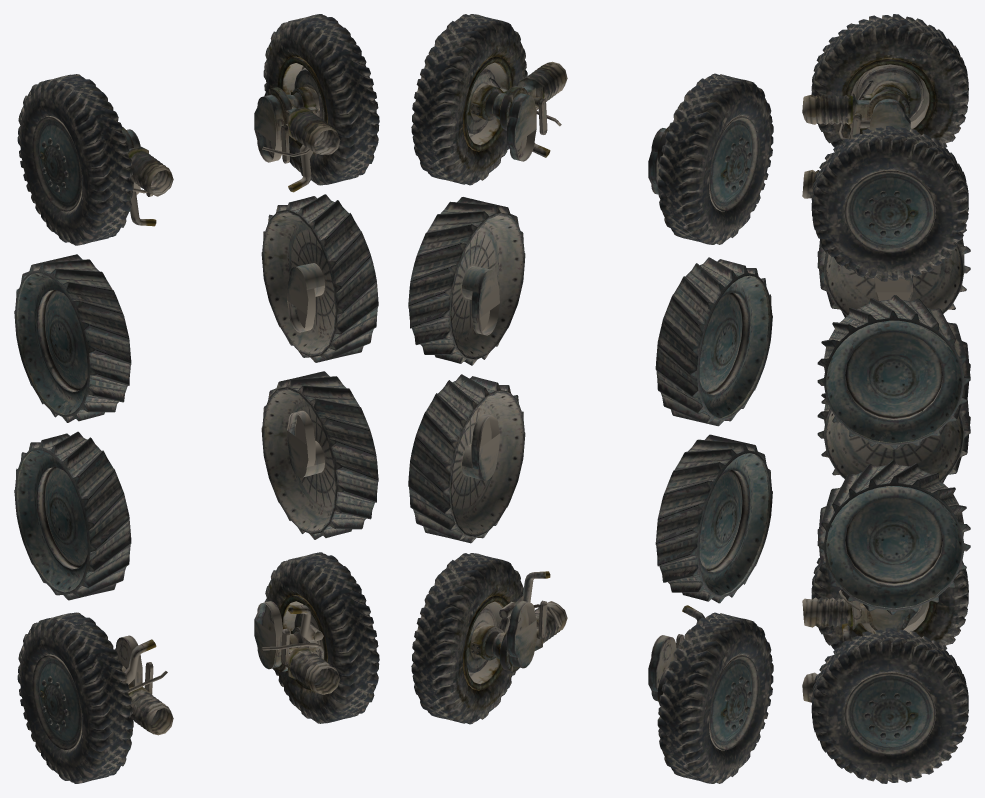
Rendered from Chassis.glb.
3 renders of one model, left to right at view 1: azimuth 30°, elevation 25°; view 2: azimuth 150°, elevation 25°; view 3: azimuth 270°, elevation 25°, orthographic. The views are drawn at different scales.
Parts seen in each view (by area): view 1: set_0_group_0, set_1_group_0, set_0_group_1, set_1_group_1; view 2: set_1_group_0, set_0_group_0, set_0_group_1, set_1_group_1; view 3: set_1_group_0, set_1_group_1, set_0_group_0, set_0_group_1.
Boxes of the visible parts, left/top/right/bottom form: set_0_group_0: left=14, top=116, right=173, bottom=749; set_1_group_0: left=254, top=56, right=378, bottom=694; set_0_group_1: left=17, top=74, right=133, bottom=783; set_1_group_1: left=263, top=14, right=379, bottom=723; set_1_group_0: left=408, top=56, right=567, bottom=690; set_0_group_0: left=648, top=115, right=772, bottom=750; set_0_group_1: left=657, top=73, right=773, bottom=783; set_1_group_1: left=411, top=14, right=527, bottom=724; set_1_group_0: left=802, top=170, right=970, bottom=755; set_1_group_1: left=811, top=126, right=968, bottom=783; set_0_group_0: left=802, top=58, right=970, bottom=634; set_0_group_1: left=811, top=14, right=968, bottom=649.
Bounding box in the file's own units: 2.44 × 5.5 × 1.3.
4 materials, 4 textured.
